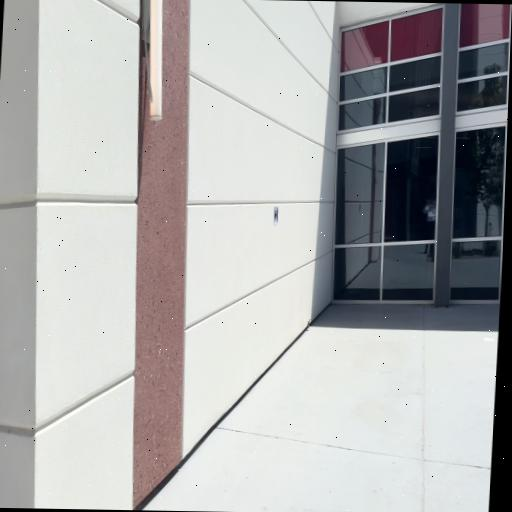target0: (274, 205, 278, 226)
